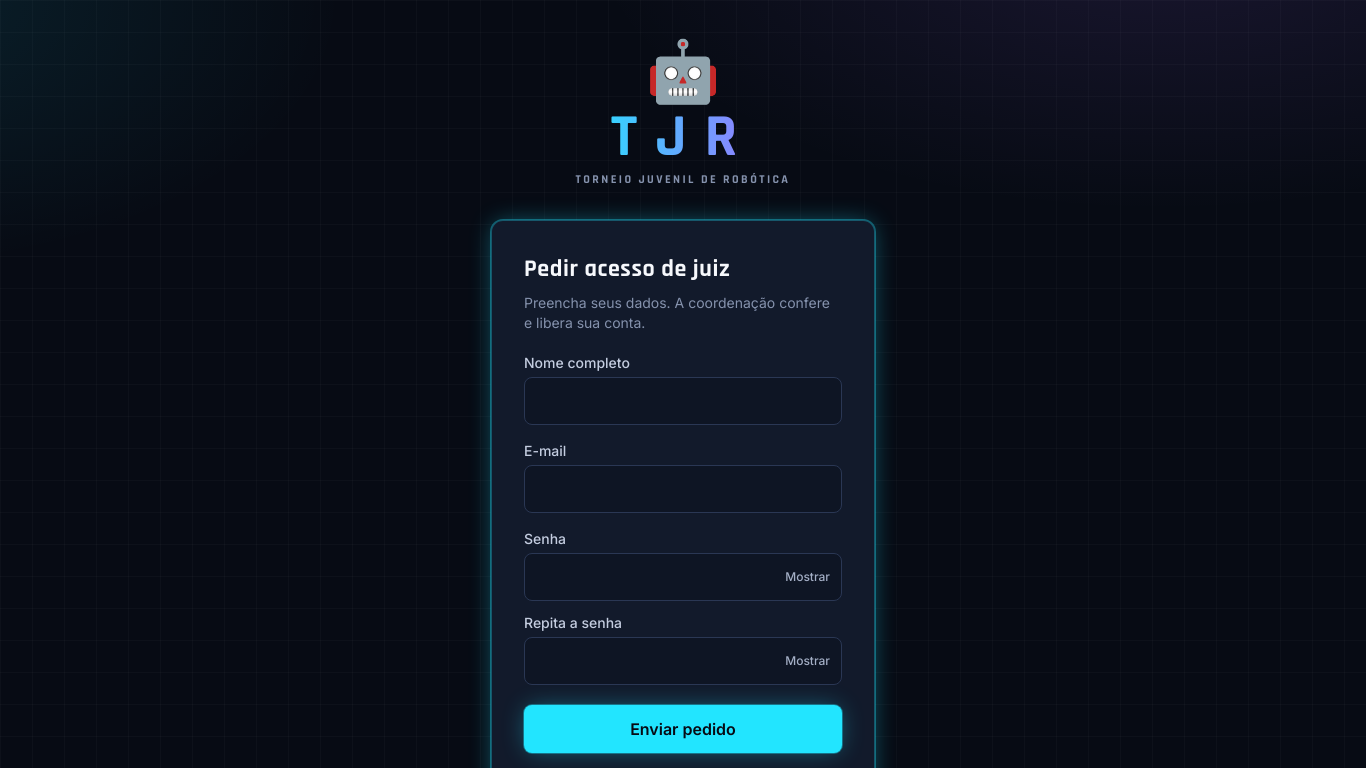
Scenario: PedirAcessoPage › explica quando ja existe pedido esperando
The image size is (1366, 768).
In the field labelled "Nome completo": (683, 401) [524,377,842,425], type "Juiz Novo"
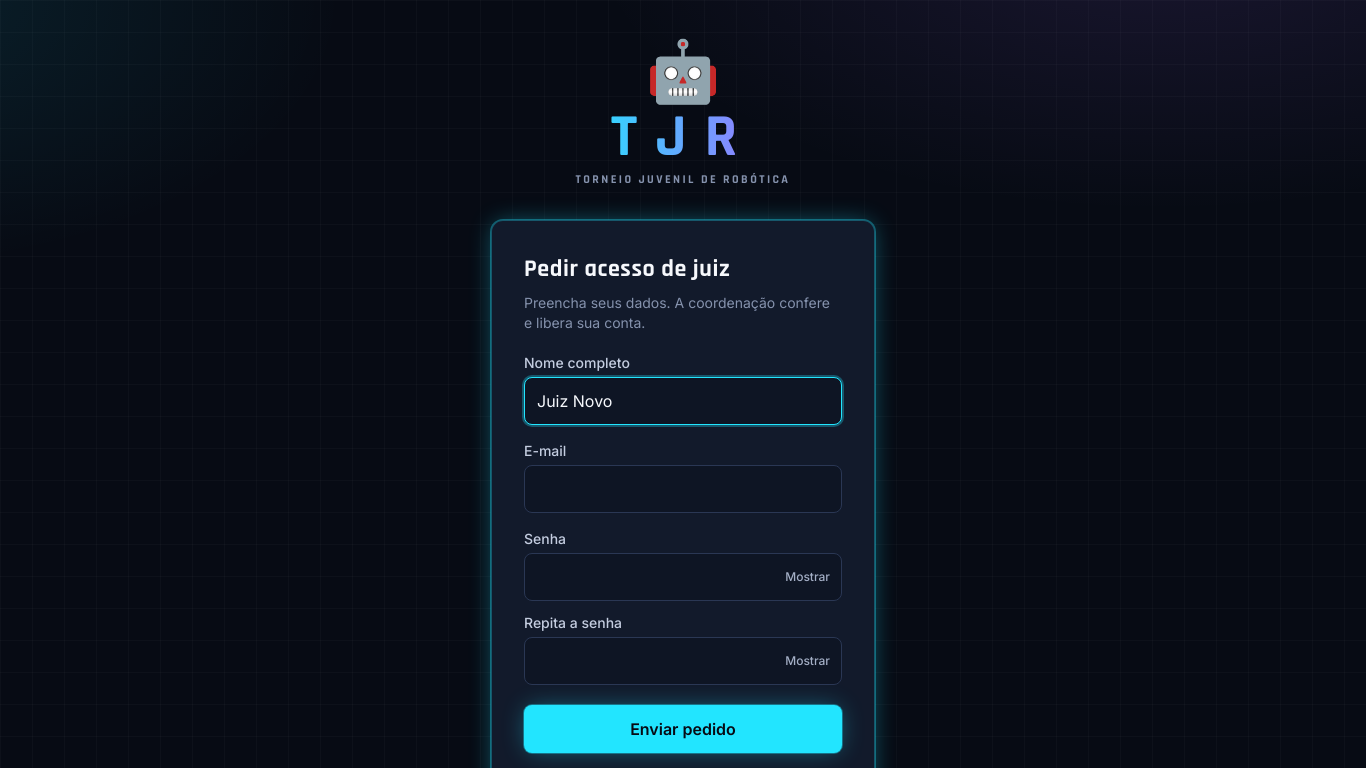
In the field labelled "E-mail": (683, 489) [524,465,842,513], type "juiz.novo@tjr.app"
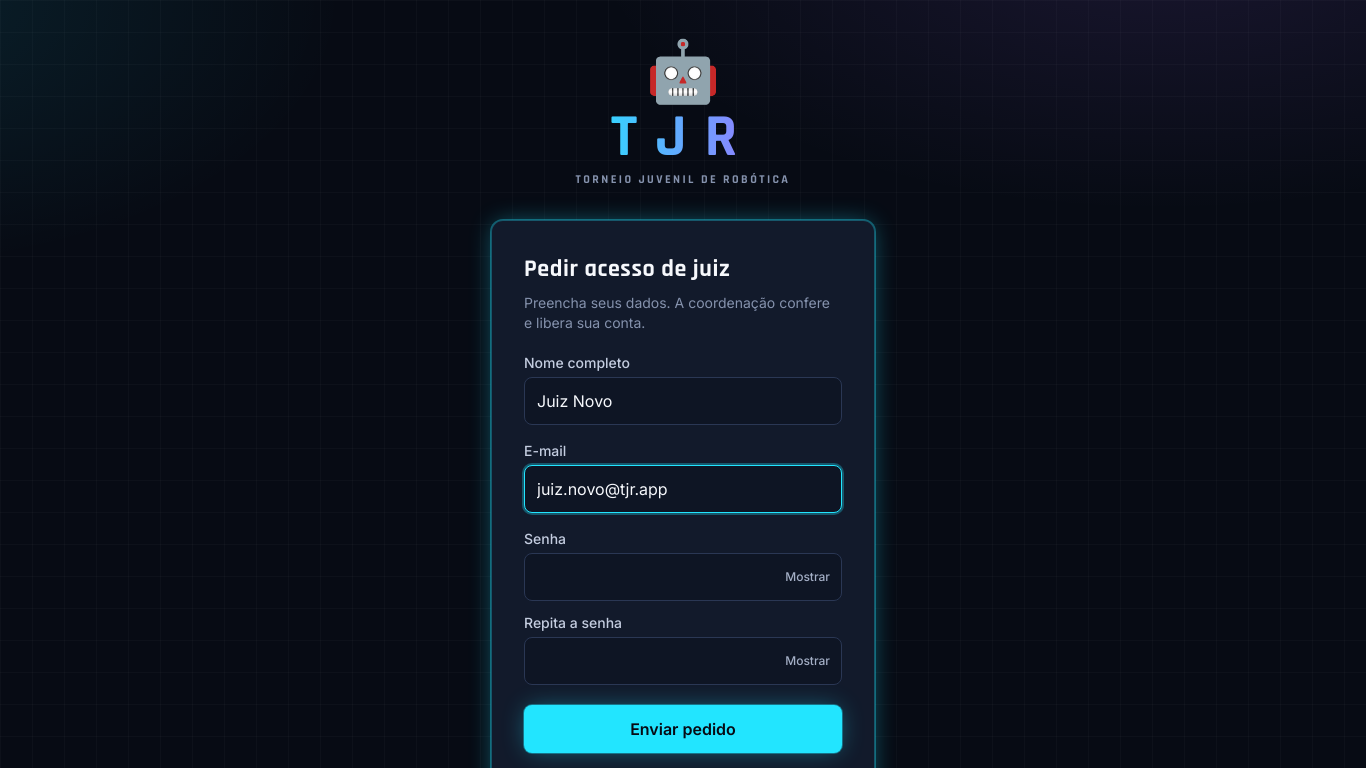
In the password field labelled "Senha": (683, 577) [524,553,842,601], type "segredo1"
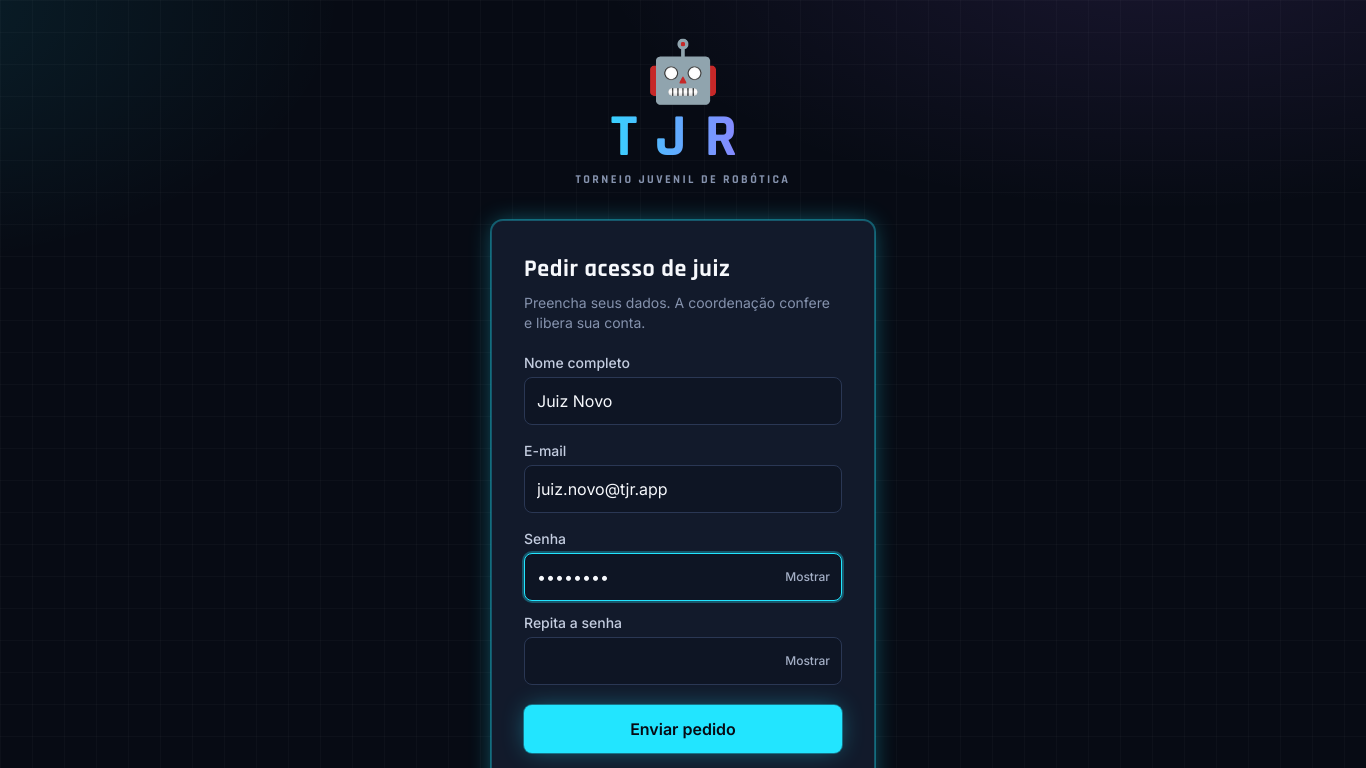
In the password field labelled "Repita a senha": (683, 661) [524,637,842,685], type "segredo1"
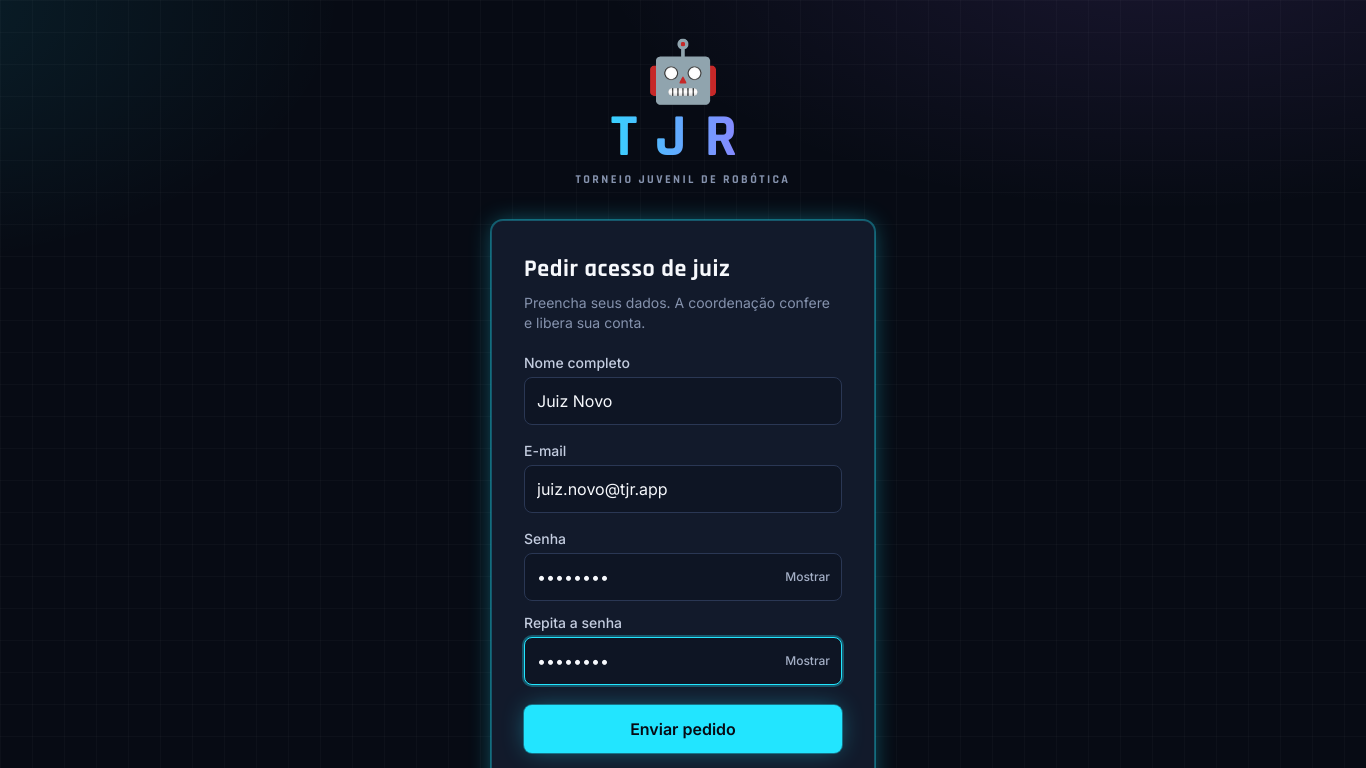
Click the button "Enviar pedido": (683, 729) [524,705,842,753]
(page scrolled)
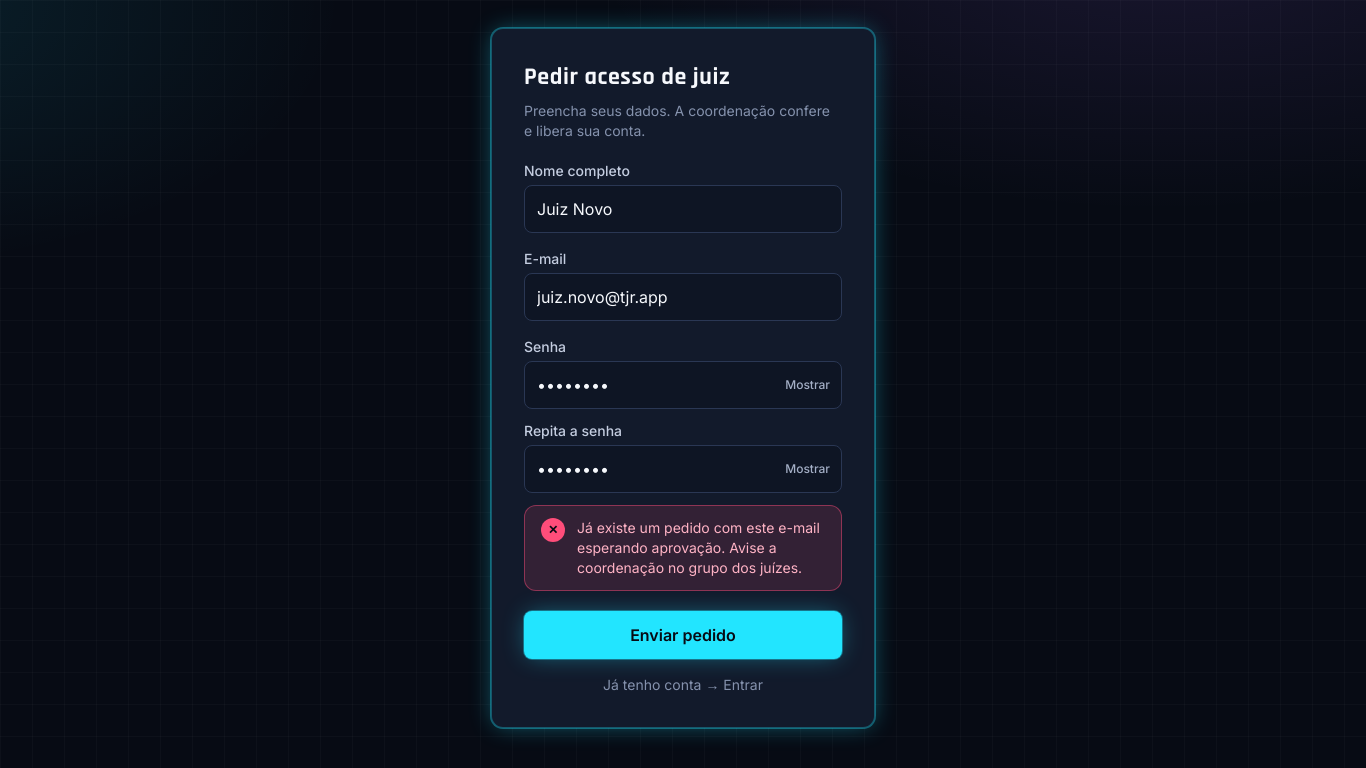
expect the text "Já existe um pedido com este e-mail" is shown: met, box [577,519,820,576]
